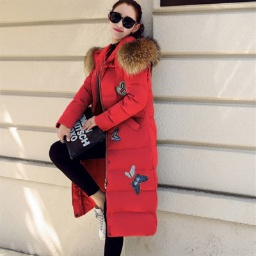face: (100, 1, 148, 46)
